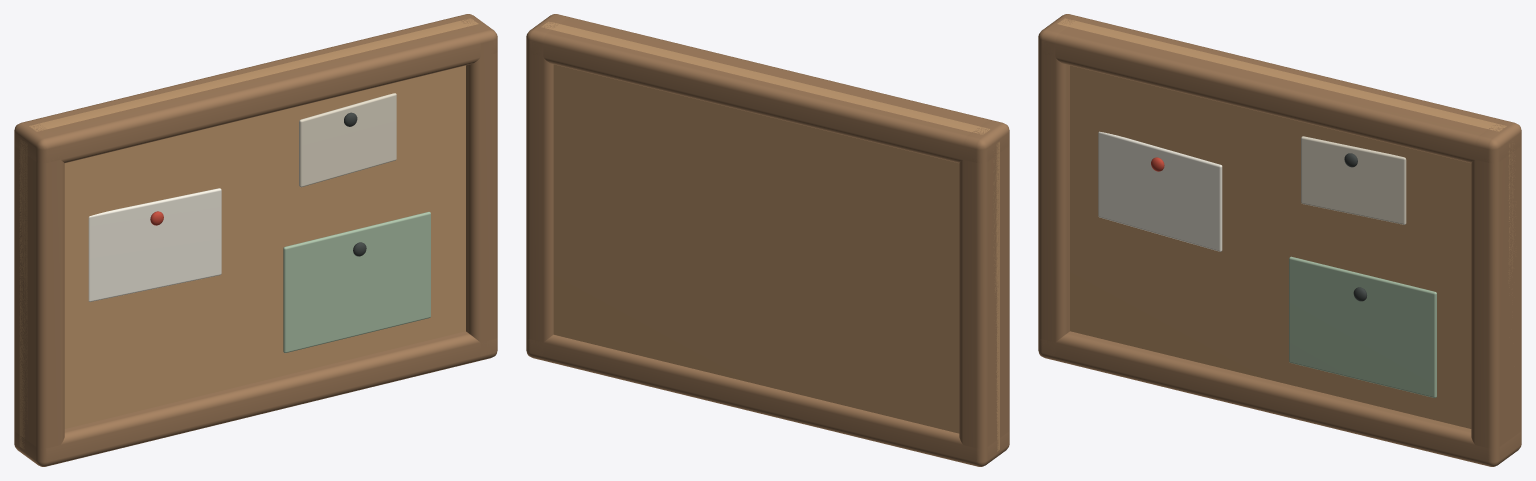
The model's file is corkboard.glb.
The picture shows the model from 3 angles, left to right: view 1: azimuth 30°, elevation 25°; view 2: azimuth 150°, elevation 25°; view 3: azimuth 330°, elevation 25°; orthographic projection.
Visible parts, largest first — view 1: Corkboard Cork, Corkboard Horizontal Frame.001, Pinned Note.001, Corkboard Vertical Frame, Corkboard Horizontal Frame, Pinned Note, Corkboard Vertical Frame.001, Pinned Note.002; view 2: Corkboard Cork, Corkboard Horizontal Frame.001, Corkboard Vertical Frame, Corkboard Horizontal Frame, Corkboard Vertical Frame.001; view 3: Corkboard Cork, Corkboard Horizontal Frame.001, Corkboard Vertical Frame.001, Pinned Note.001, Corkboard Horizontal Frame, Pinned Note, Corkboard Vertical Frame, Pinned Note.002.
Part boxes in pixels (x1,y1,x2,y2): Corkboard Cork: (19,18,478,449); Corkboard Horizontal Frame.001: (15,17,497,163); Pinned Note.001: (283,211,430,353); Corkboard Vertical Frame: (14,119,64,466); Corkboard Horizontal Frame: (15,331,497,466); Pinned Note: (88,188,221,301); Corkboard Vertical Frame.001: (454,14,497,360); Pinned Note.002: (299,93,396,187); Corkboard Cork: (541,21,999,451); Corkboard Horizontal Frame.001: (529,17,1008,163); Corkboard Vertical Frame: (959,119,1009,466); Corkboard Horizontal Frame: (528,334,1008,466); Corkboard Vertical Frame.001: (526,14,569,360); Corkboard Cork: (1057,18,1515,428); Corkboard Horizontal Frame.001: (1041,17,1520,163); Corkboard Vertical Frame.001: (1471,119,1521,466); Pinned Note.001: (1289,256,1436,397); Corkboard Horizontal Frame: (1038,331,1520,466); Pinned Note: (1098,131,1222,251); Corkboard Vertical Frame: (1038,14,1081,360); Pinned Note.002: (1301,136,1406,224).
Bounding box in the file's own units: 0.5 × 0.34 × 0.055.
